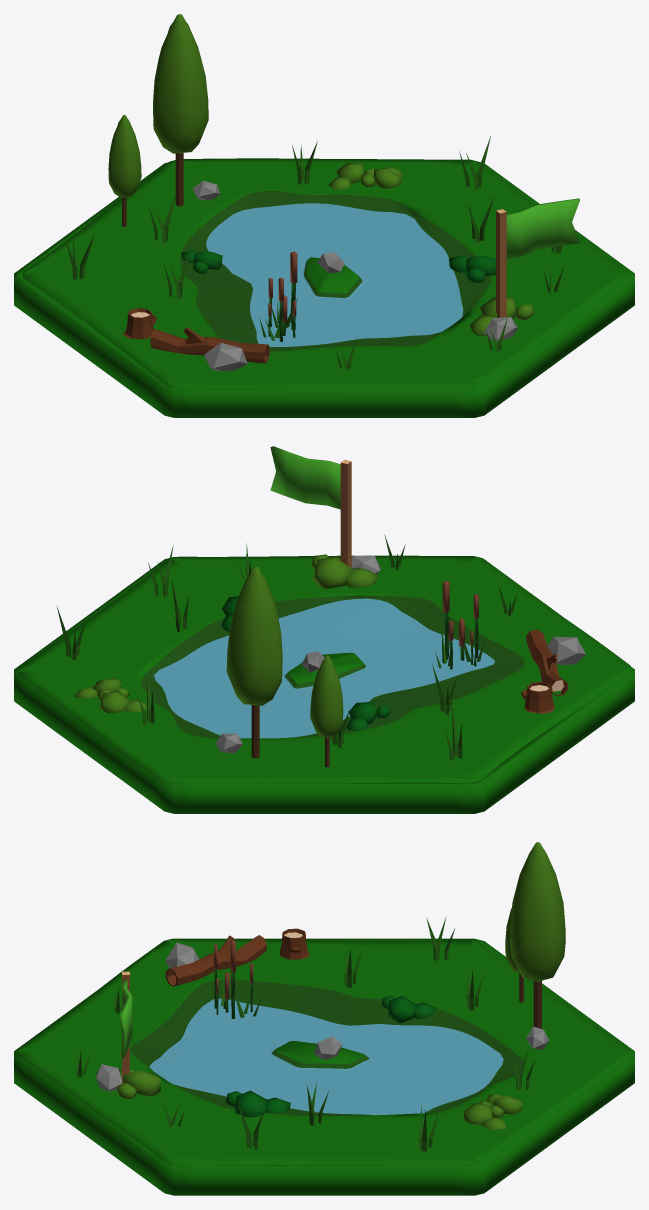
Rendered from Peatland_Tile.fbx.
The picture shows the model from 3 angles, top to bottom: view 1: azimuth 30°, elevation 25°; view 2: azimuth 150°, elevation 25°; view 3: azimuth 270°, elevation 25°; orthographic projection.
Visible parts, largest first — view 1: Cylinder.005, Cylinder.003; view 2: Cylinder.005, Cylinder.003; view 3: Cylinder.005, Cylinder.003.
Part boxes in pixels (x1,y1,x2,y2): Cylinder.005: [23, 14, 628, 389]; Cylinder.003: [14, 162, 634, 417]; Cylinder.005: [18, 446, 630, 784]; Cylinder.003: [14, 557, 634, 813]; Cylinder.005: [17, 842, 631, 1166]; Cylinder.003: [14, 938, 634, 1195].
Size of the model in its own units: 114 by 100 by 46.37.
